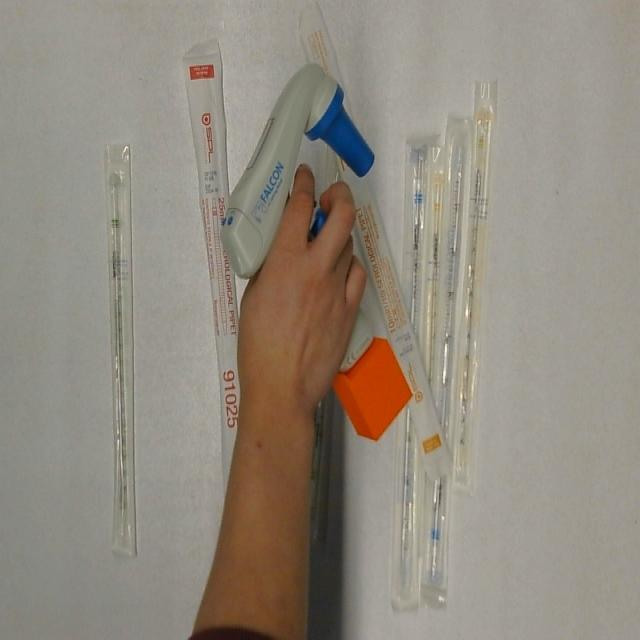Pipette Controller: (220, 61, 424, 442)
Serelogical Pipet 1 mL - Sealed: (451, 72, 504, 493), (423, 143, 452, 384)
Serelogical Pipet 10 mL - Sealed: (298, 0, 454, 484)
Serelogical Pipet 2 mL - Sealed: (102, 139, 143, 564)
Serelogical Pipet 25 mL - Sealed: (180, 40, 258, 499)
Serelogical Pipet 5 mL - Sealed: (420, 115, 478, 592), (387, 133, 436, 614)
